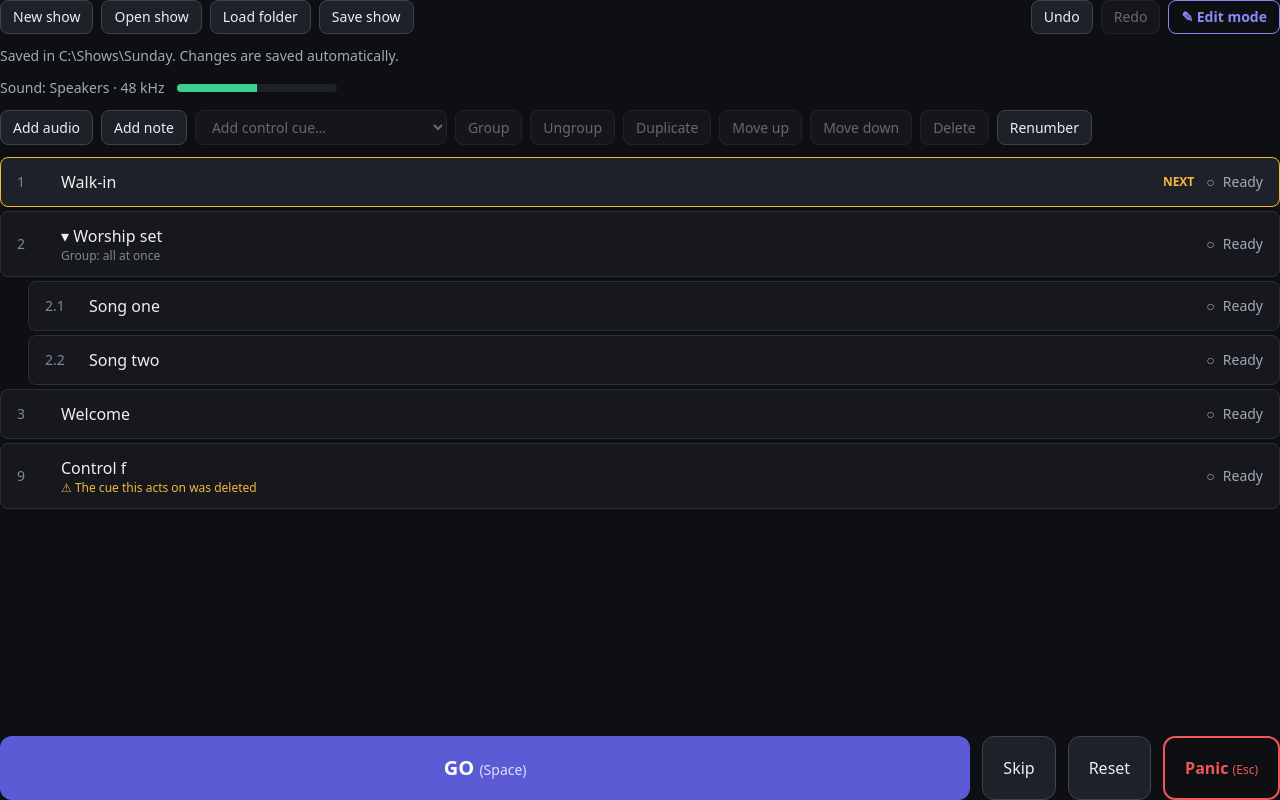
control cues › warns, in the list and the inspector, when the target was deleted
The width and height of the screenshot is (1280, 800).
Expected: the text "⚠ The cue this acts on was deleted" is shown, [61, 479, 257, 496]
Click the text "Control f" at {"x": 94, "y": 468}, box [61, 457, 126, 479]
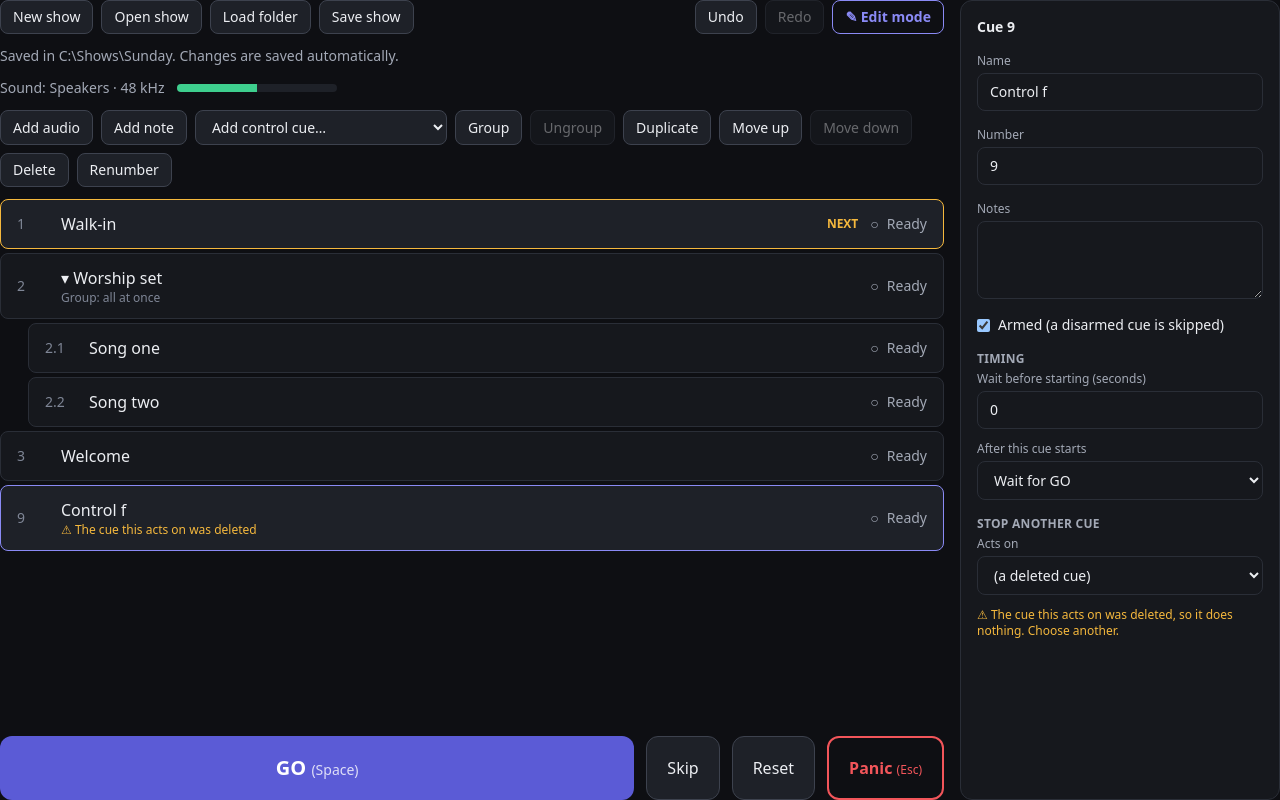
Result: the message shows "so it does nothing" at [977, 606, 1233, 639]
